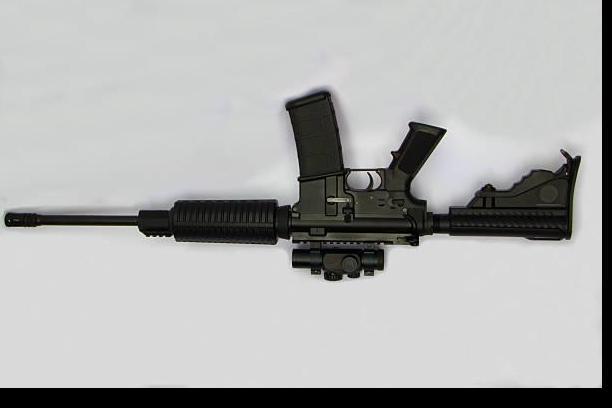larga: (3, 90, 583, 281)
